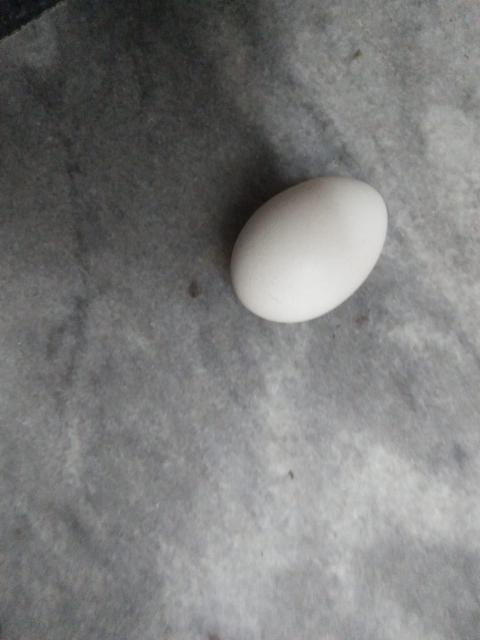Sano: (231, 176, 390, 325)
